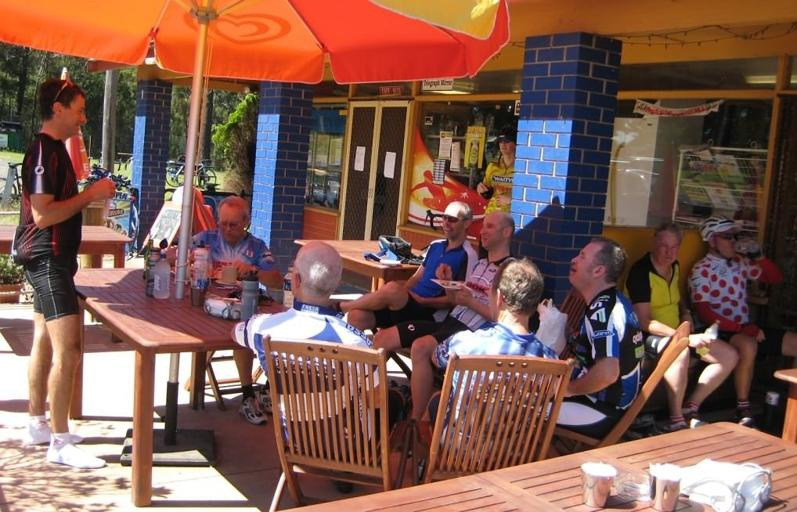non-vehicle: (165, 154, 217, 190), (0, 160, 23, 199)
